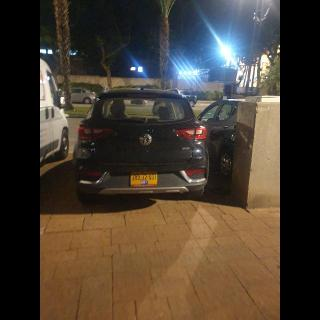LicensePlate: (131, 173, 157, 181)
